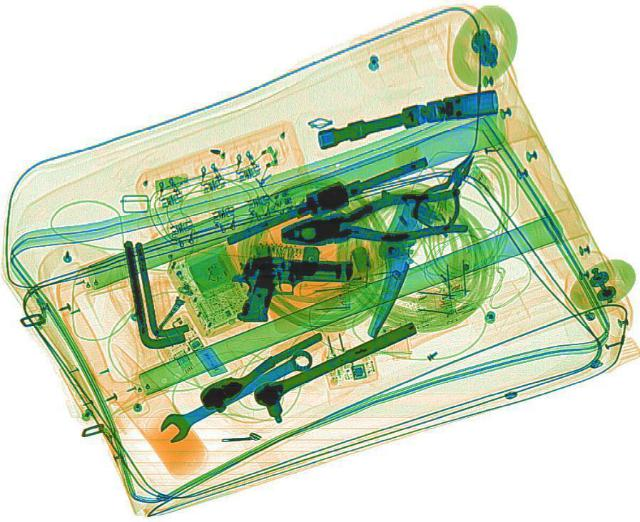Gun: (227, 253, 353, 323)
Pliers: (274, 185, 470, 254), (402, 146, 492, 233)
Wrench: (150, 342, 320, 441)
